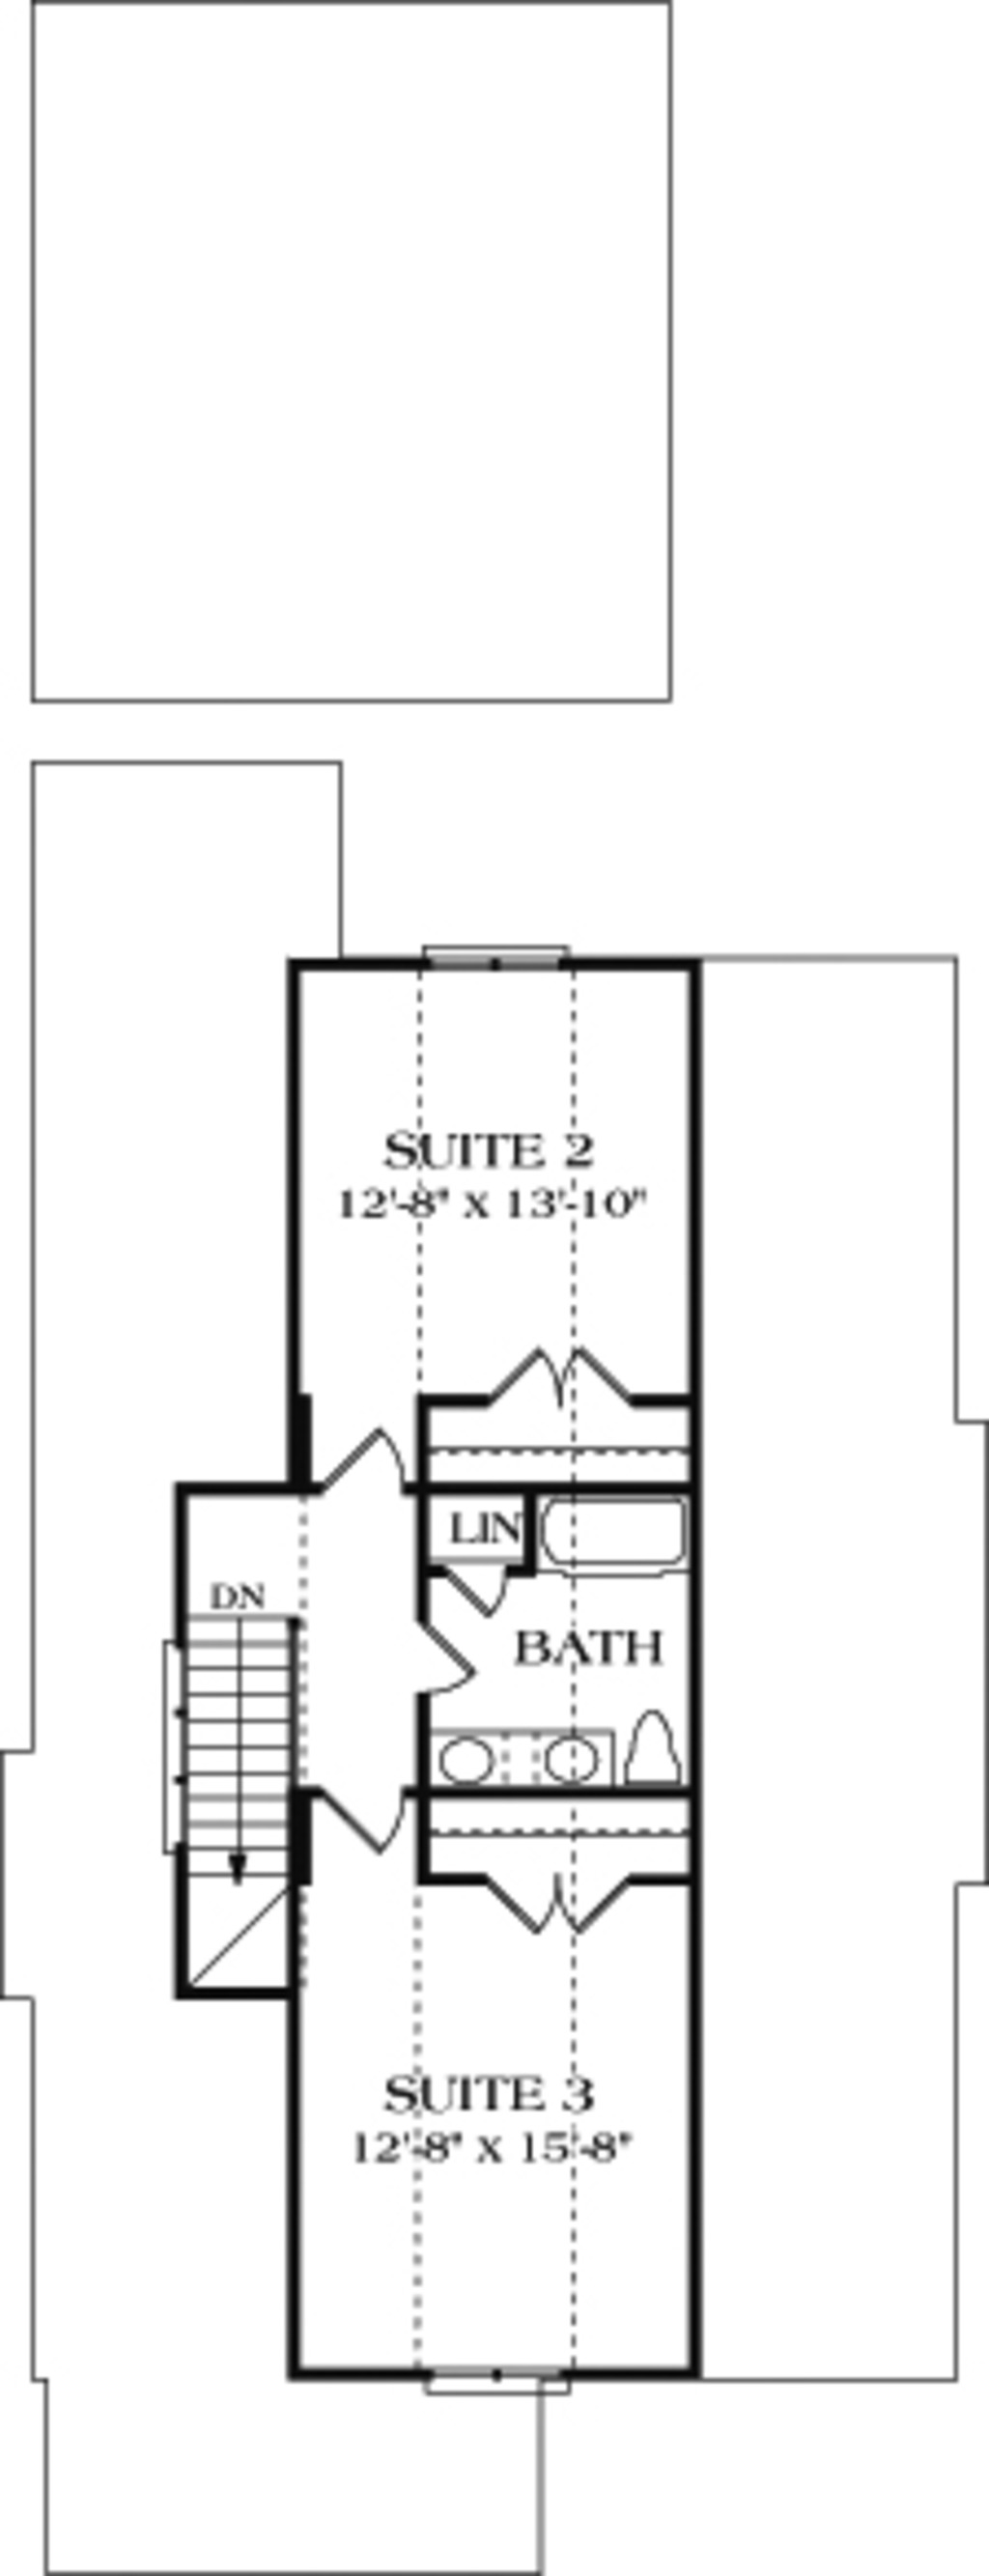door: (470, 1337, 667, 1426), (470, 1850, 634, 1950), (312, 1764, 422, 1858), (292, 1426, 409, 1511), (406, 1612, 490, 1709)
large_sink: (623, 1692, 683, 1801)
small_sink: (425, 1723, 647, 1801)
stairs: (136, 1608, 292, 2039)
tub: (534, 1482, 678, 1584)
window: (417, 923, 595, 1000), (434, 2361, 595, 2397)
